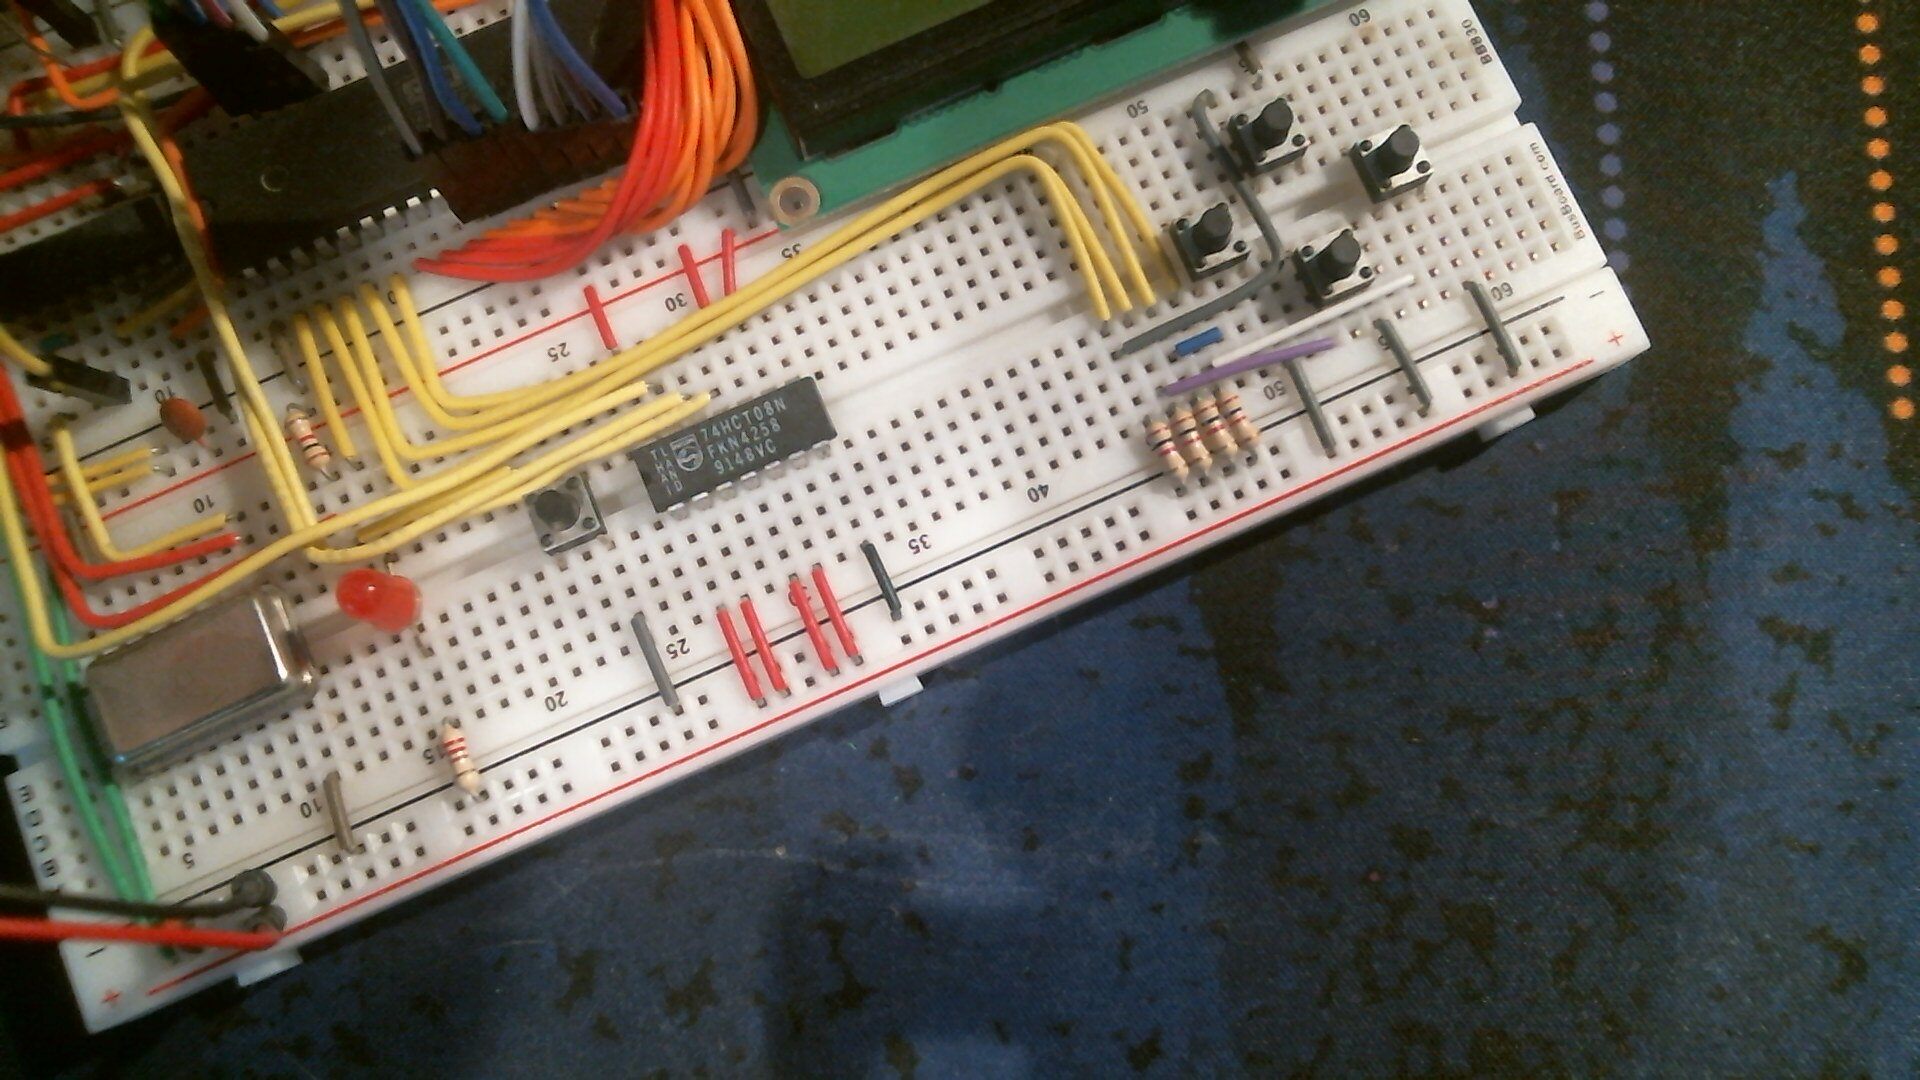IC: (628, 375, 837, 518)
LED: (334, 567, 426, 637)
ceramic_capacitor: (156, 396, 214, 451)
resistor: (436, 712, 485, 806), (1138, 410, 1189, 496), (1189, 394, 1244, 475), (1213, 385, 1263, 465), (1168, 404, 1215, 484)
